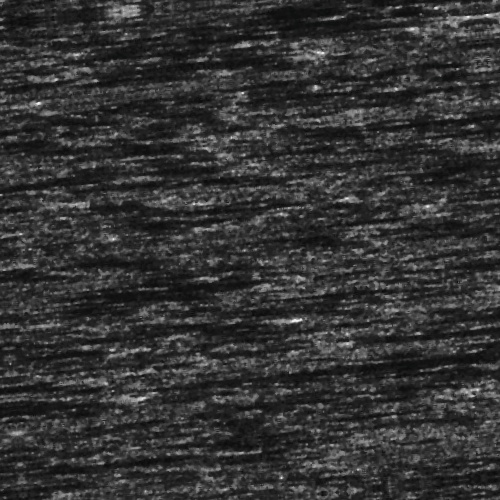object: (31, 377, 188, 394), (259, 52, 404, 65), (0, 297, 96, 308), (0, 297, 90, 308), (0, 11, 42, 26), (61, 329, 124, 338), (101, 0, 194, 5), (18, 357, 81, 364), (0, 77, 53, 84), (175, 444, 238, 449), (359, 96, 422, 101), (408, 229, 471, 234), (0, 204, 27, 213), (338, 21, 379, 26), (446, 32, 477, 37), (414, 219, 455, 222), (181, 65, 222, 68), (50, 183, 71, 186)
shadow: (124, 52, 332, 65), (363, 130, 500, 149), (0, 377, 109, 394), (342, 345, 500, 356), (159, 32, 461, 37), (357, 12, 500, 19), (0, 329, 92, 338), (237, 372, 500, 375), (202, 21, 358, 26), (51, 444, 206, 449), (237, 96, 390, 101), (0, 297, 34, 308), (0, 357, 50, 364), (93, 65, 201, 68), (336, 219, 434, 222), (91, 0, 147, 5), (390, 229, 439, 234), (0, 183, 61, 186)
